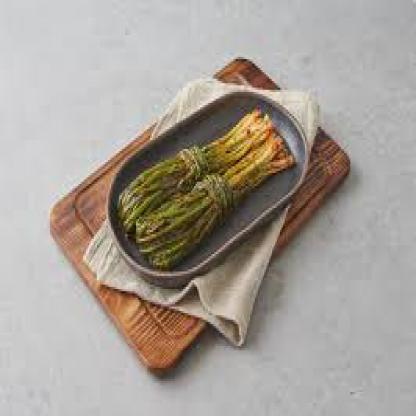green onion Kimchi: (125, 116, 288, 241)
